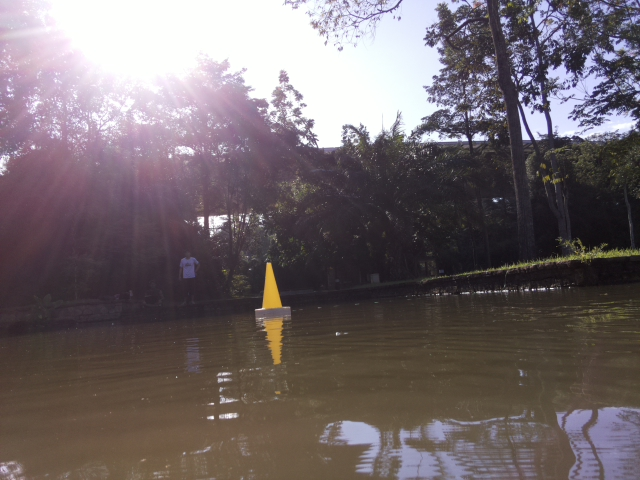checkpoint: (254, 260, 291, 319)
